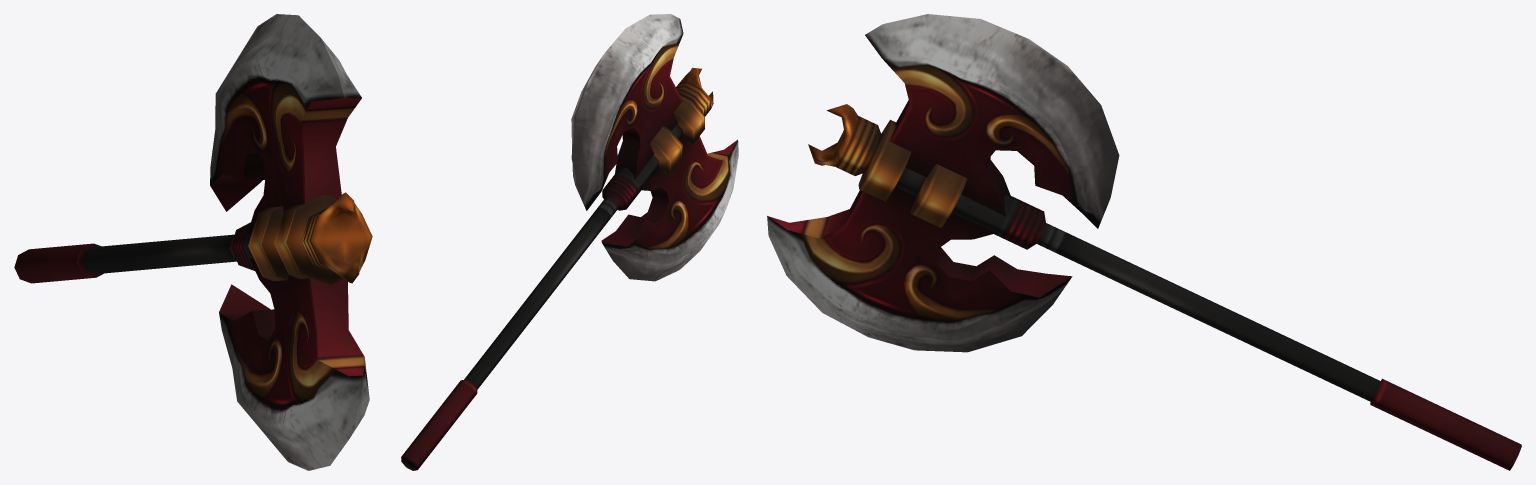
File: Berserker-righthandweapon04.FBX
3 views of the same model, side by side, from view 1: azimuth 30°, elevation 25°; view 2: azimuth 150°, elevation 25°; view 3: azimuth 270°, elevation 25° (orthographic). The views are drawn at different scales.
Visible parts, largest first — view 1: berserker-righthandweapon04; view 2: berserker-righthandweapon04; view 3: berserker-righthandweapon04.
Part boxes in pixels (x1,y1,x2,y2): berserker-righthandweapon04: (14, 14, 372, 470); berserker-righthandweapon04: (401, 14, 738, 470); berserker-righthandweapon04: (767, 14, 1521, 470).
Size of the model in its own units: 41.02 by 141 by 222.
